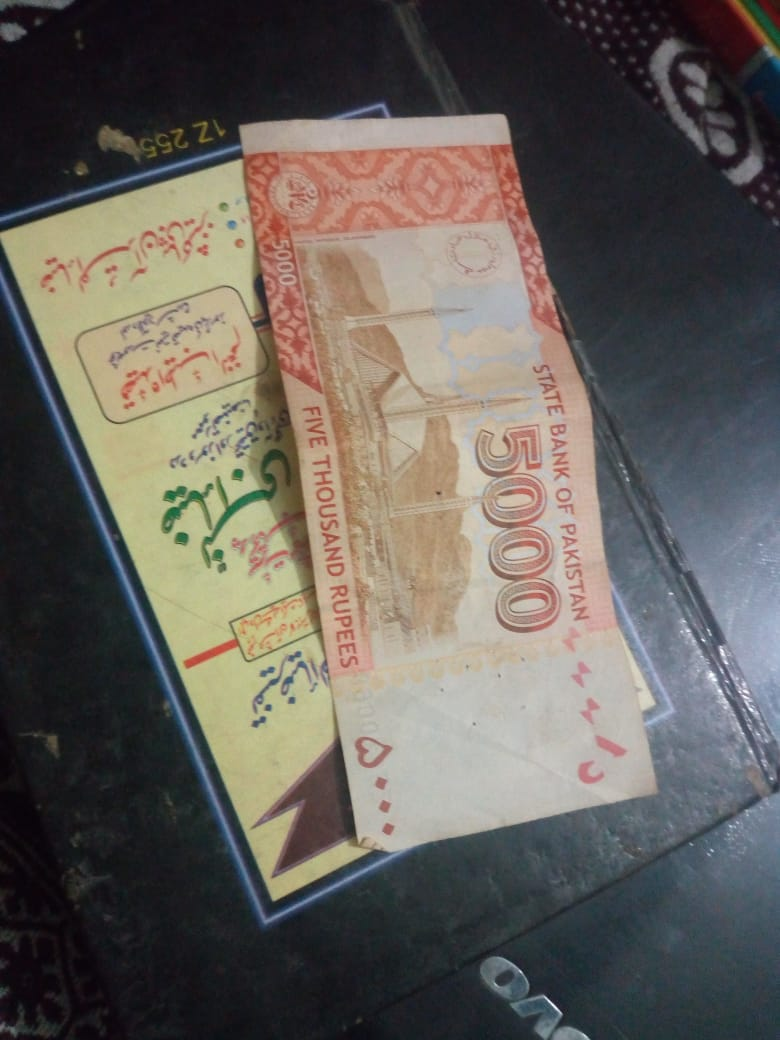5000 rupee: (242, 100, 662, 874)
